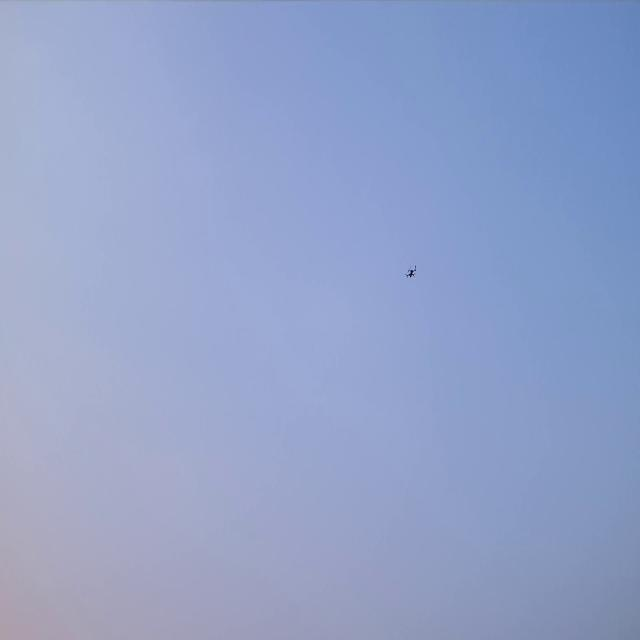UAV: (405, 263, 417, 280)
